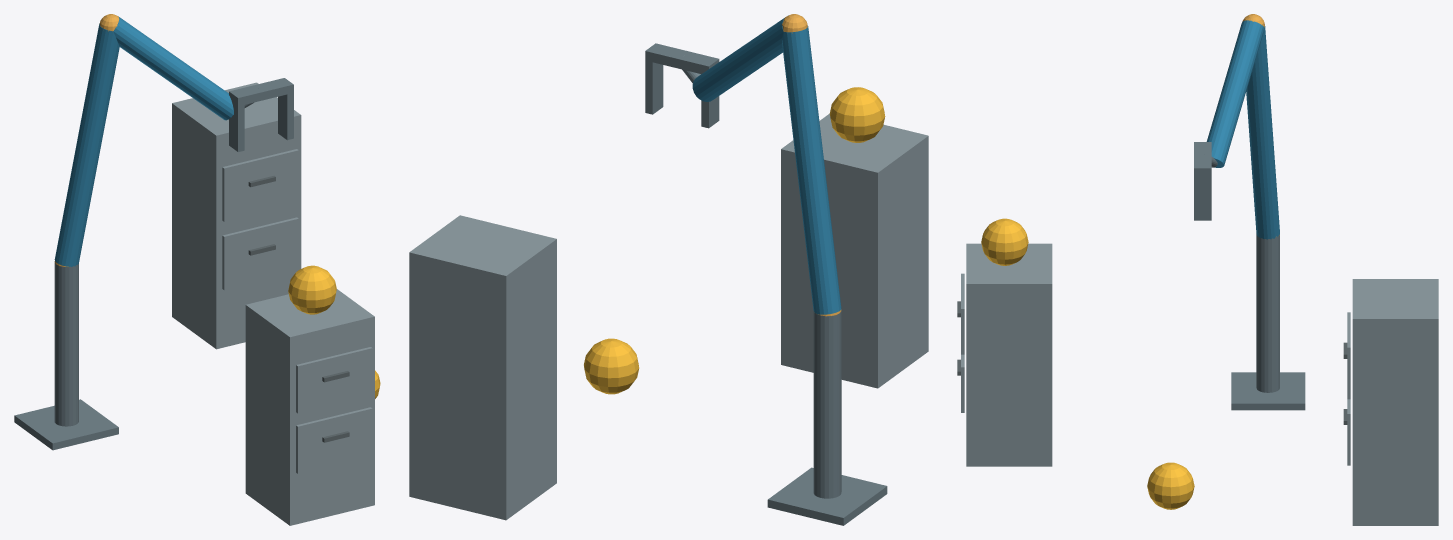
3 renders of one model, left to right at view 1: azimuth 30°, elevation 25°; view 2: azimuth 150°, elevation 25°; view 3: azimuth 270°, elevation 25°, orthographic. The views are drawn at different scales.
Parts seen in each view (by area): view 1: cabinet_1 body, cabinet_2 body, moving link 1, cabinet_2 drawer front.001, cabinet_2 drawer front, fixed post, cabinet_1 drawer front.001, cabinet_1 drawer front, moving link 2, pedestal, released ball_1, gripper bridge (+2 smaller); view 2: cabinet_2 body, cabinet_1 body, moving link 1, fixed post, pedestal, moving link 2, ball ball_2, released ball_1, gripper bridge, gripper finger 1; view 3: cabinet_2 body, cabinet_1 body, moving link 1, fixed post, moving link 2, pedestal, ball ball_2, released ball_1, gripper finger 1, gripper bridge.
Part boxes in pixels (x1=…): cabinet_1 body: x1=245, y1=289, x2=374, y2=525; cabinet_2 body: x1=172, y1=82, x2=301, y2=349; moving link 1: x1=54, y1=23, x2=119, y2=266; cabinet_2 drawer front.001: x1=222, y1=149, x2=298, y2=221; cabinet_2 drawer front: x1=222, y1=217, x2=298, y2=290; fixed post: x1=54, y1=263, x2=78, y2=426; cabinet_1 drawer front.001: x1=296, y1=347, x2=372, y2=413; cabinet_1 drawer front: x1=296, y1=407, x2=372, y2=473; moving link 2: x1=113, y1=16, x2=233, y2=120; pedestal: x1=14, y1=399, x2=118, y2=450; released ball_1: x1=288, y1=265, x2=336, y2=314; gripper bridge: x1=229, y1=78, x2=293, y2=106; cabinet_2 body: x1=409, y1=215, x2=556, y2=520; cabinet_1 body: x1=781, y1=114, x2=928, y2=388; moving link 1: x1=782, y1=26, x2=841, y2=314; fixed post: x1=813, y1=310, x2=841, y2=498; pedestal: x1=767, y1=467, x2=887, y2=525; moving link 2: x1=692, y1=17, x2=785, y2=101; ball ball_2: x1=584, y1=338, x2=639, y2=394; released ball_1: x1=829, y1=87, x2=885, y2=142; gripper bridge: x1=645, y1=43, x2=719, y2=74; gripper finger 1: x1=645, y1=60, x2=663, y2=114; cabinet_2 body: x1=1352, y1=279, x2=1438, y2=525; cabinet_1 body: x1=966, y1=243, x2=1052, y2=466; moving link 1: x1=1246, y1=26, x2=1279, y2=239; fixed post: x1=1256, y1=234, x2=1279, y2=392; moving link 2: x1=1206, y1=20, x2=1264, y2=167; pedestal: x1=1231, y1=372, x2=1305, y2=410; ball ball_2: x1=1147, y1=462, x2=1194, y2=509; released ball_1: x1=981, y1=218, x2=1028, y2=265; gripper finger 1: x1=1194, y1=176, x2=1211, y2=220; gripper bridge: x1=1194, y1=142, x2=1211, y2=176.
Bounding box in the file's own units: 1.17 × 1.48 × 1.62.
